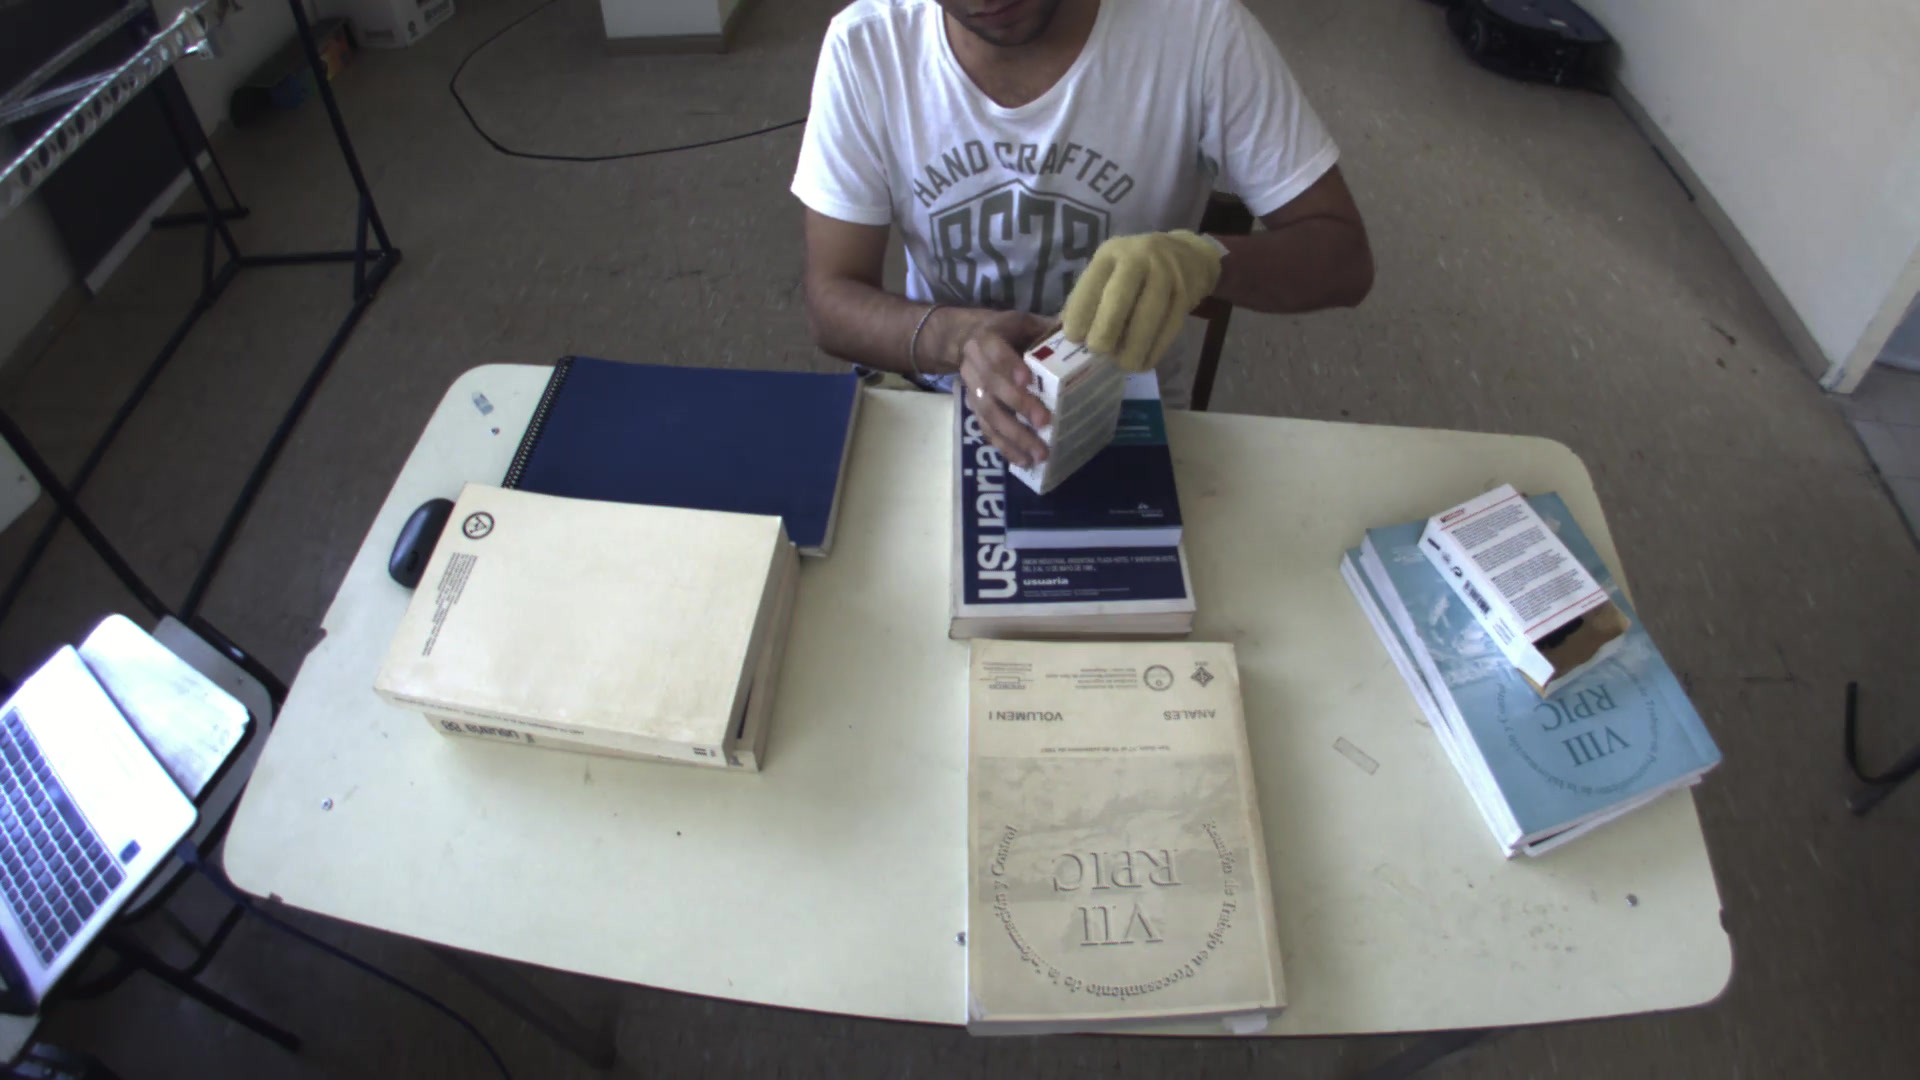hand: (1060, 211, 1234, 371), (943, 319, 1089, 479)
